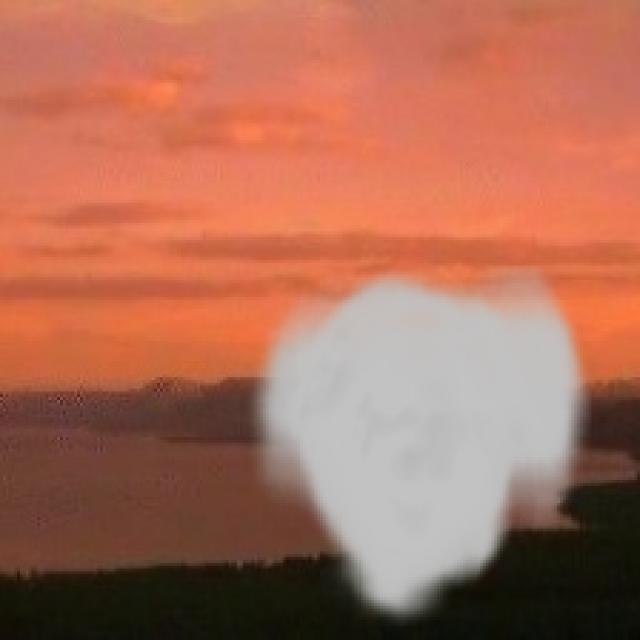smoke: (243, 266, 591, 626)
